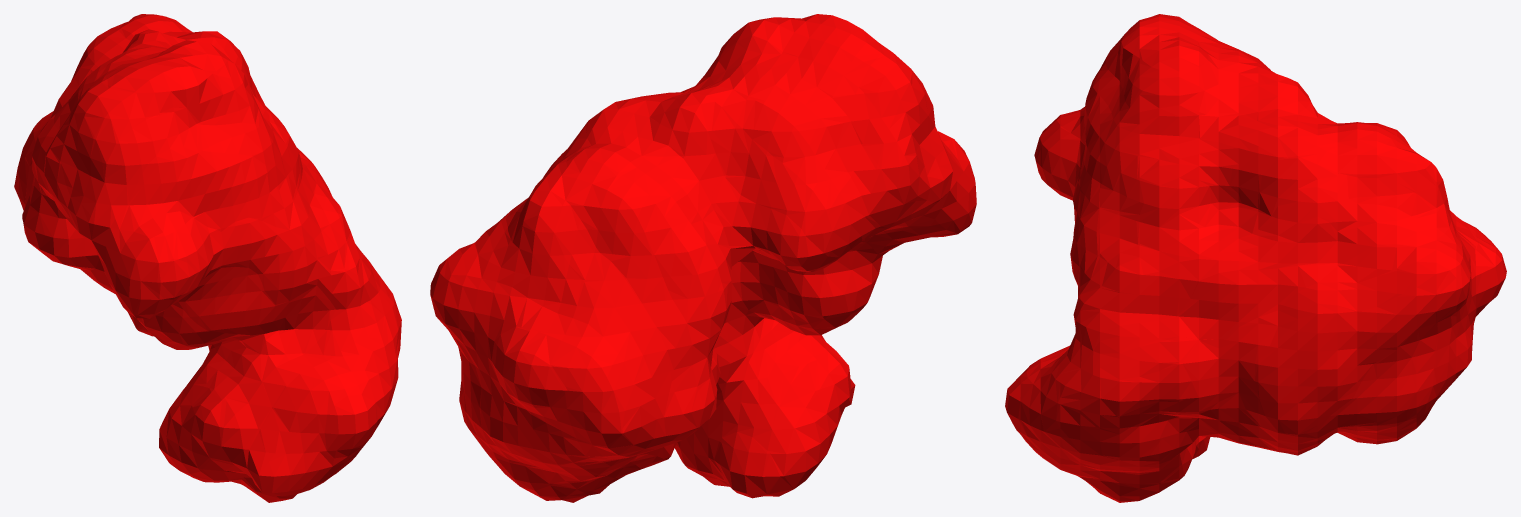
Rendered from rlmD_coarse.dae.
The picture shows the model from 3 angles, left to right: view 1: azimuth 30°, elevation 25°; view 2: azimuth 150°, elevation 25°; view 3: azimuth 270°, elevation 25°; orthographic projection. The views are drawn at different scales.
Parts seen in each view (by area): view 1: rlmD; view 2: rlmD; view 3: rlmD.
Part boxes in pixels (box(x1,y1,x2,y2)): rlmD: box(14, 14, 401, 502); rlmD: box(430, 14, 976, 502); rlmD: box(1005, 14, 1506, 502).
Size of the model in its own units: 51.81 by 69.84 by 73.58.
